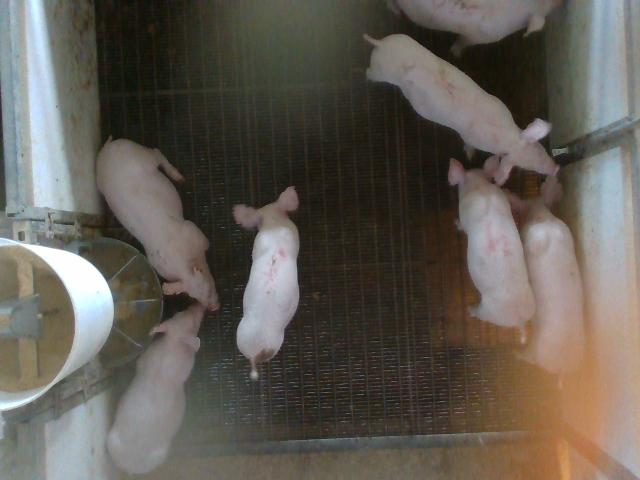pig-3: (388, 1, 559, 56)
pig-4: (449, 155, 535, 342)
pig-5: (234, 186, 299, 379)
